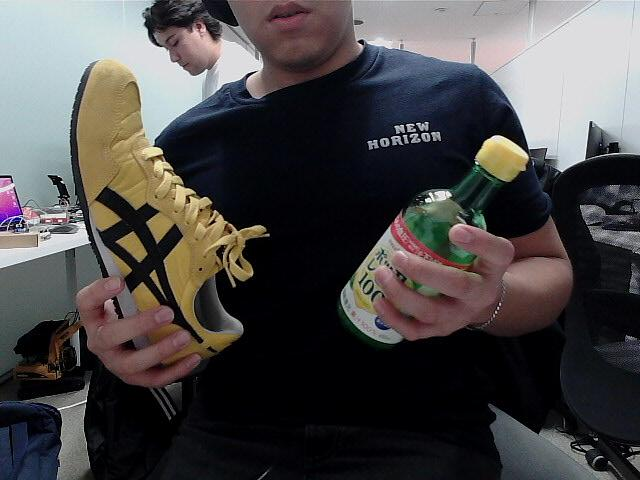Lemon_sapporo: (337, 135, 532, 359)
Shoes: (65, 56, 254, 374)
